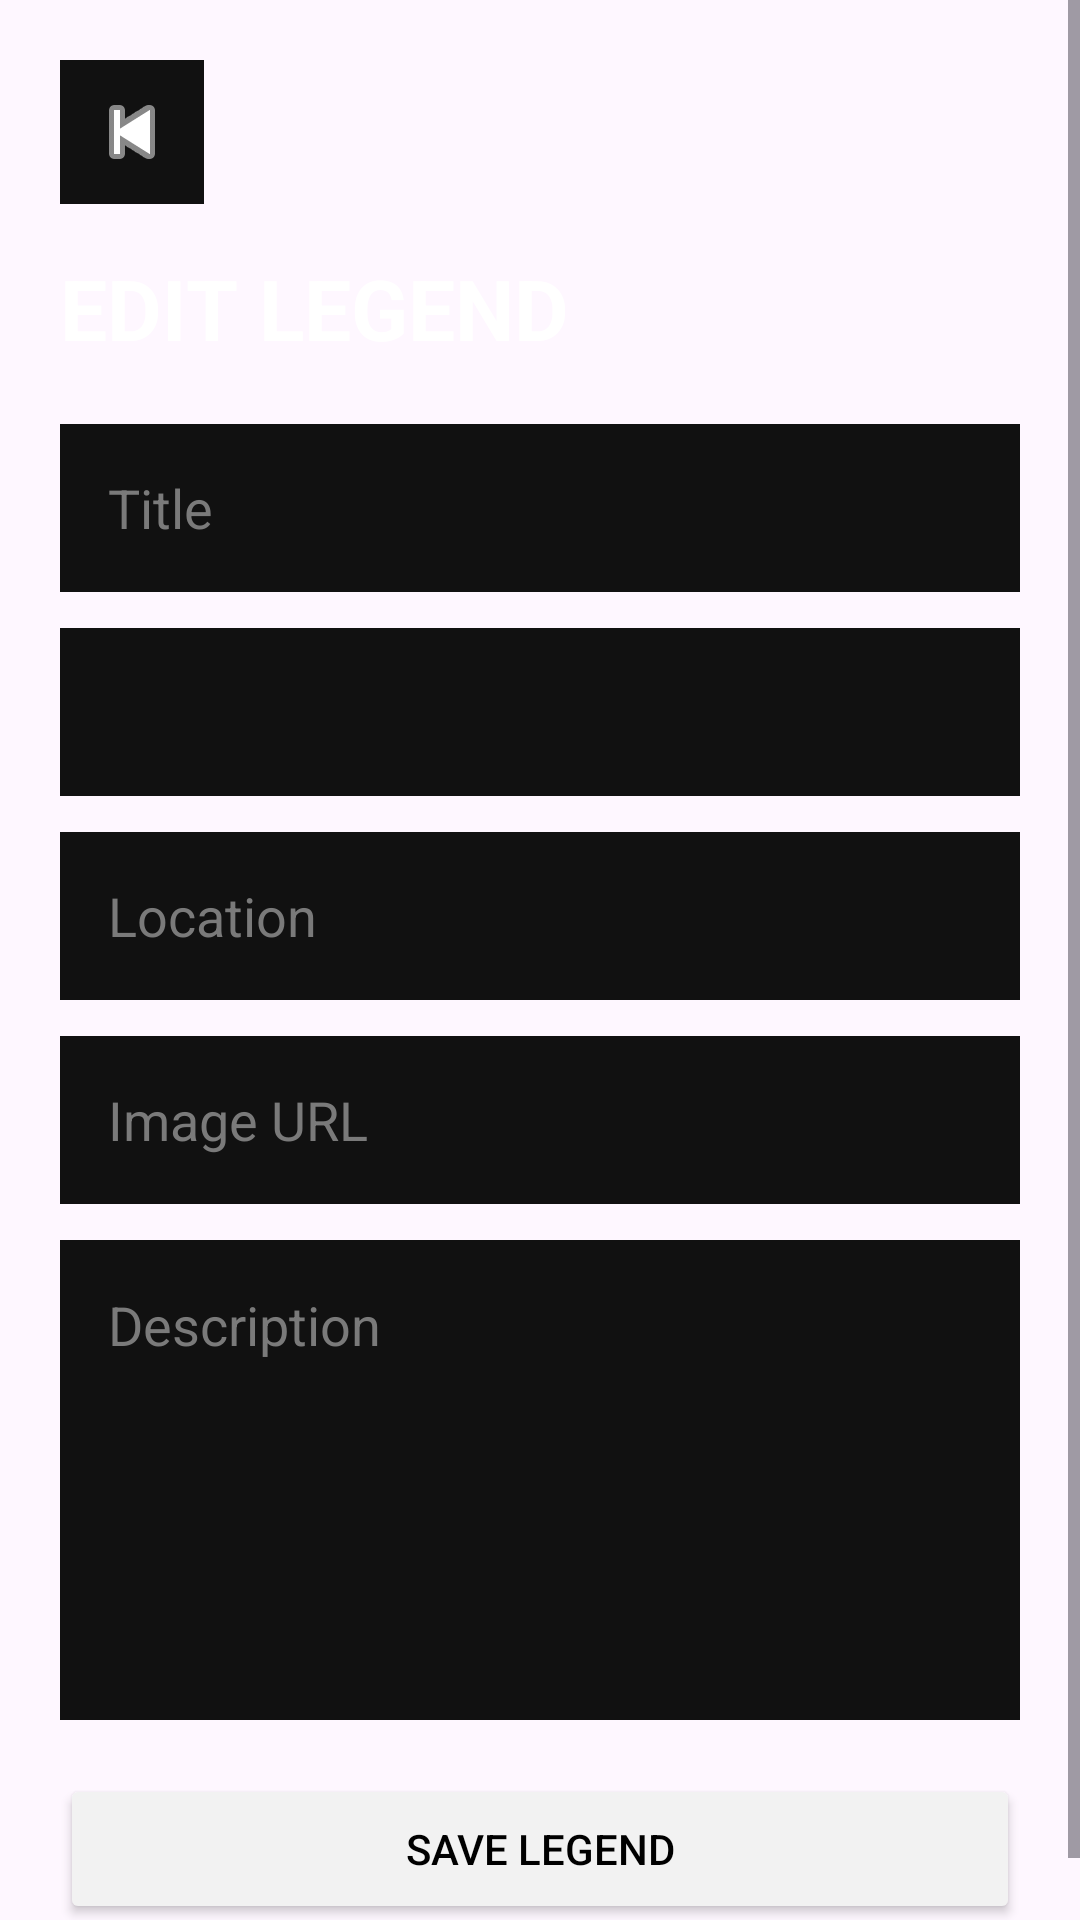

Icons on this 1080 × 1920 Android screen, each with the point to tap as [x,y]:
Back: [132,132]
